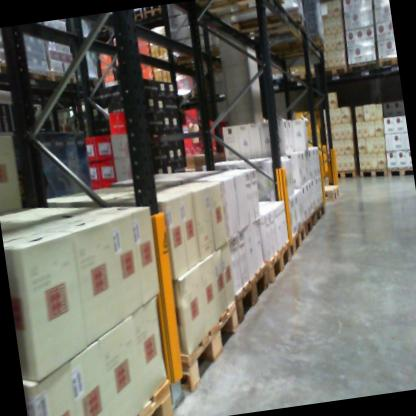pallet: (166, 297, 248, 394), (183, 0, 296, 30), (227, 6, 312, 44), (225, 262, 277, 324), (116, 374, 185, 416), (255, 35, 333, 69), (171, 45, 235, 86), (262, 238, 296, 286), (16, 50, 53, 87), (74, 69, 110, 95), (282, 223, 308, 258), (289, 65, 323, 86), (49, 64, 78, 88), (318, 59, 351, 79), (385, 163, 414, 184), (357, 164, 388, 183), (347, 58, 378, 77), (326, 164, 358, 182), (260, 69, 290, 88), (307, 200, 330, 223), (318, 182, 341, 203), (376, 52, 397, 73), (297, 213, 316, 236), (141, 7, 164, 25), (0, 51, 17, 75), (123, 12, 144, 28)
